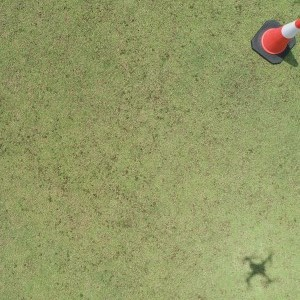traffic cone: (251, 19, 300, 64)
